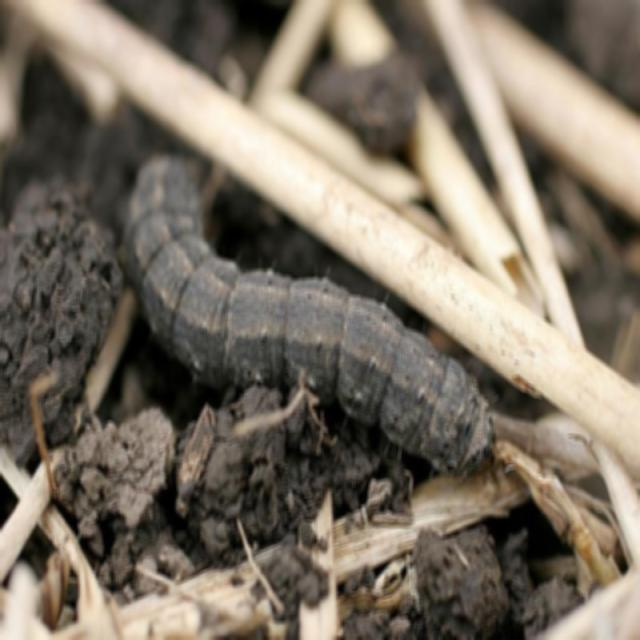black cutworm: (123, 148, 506, 473)
